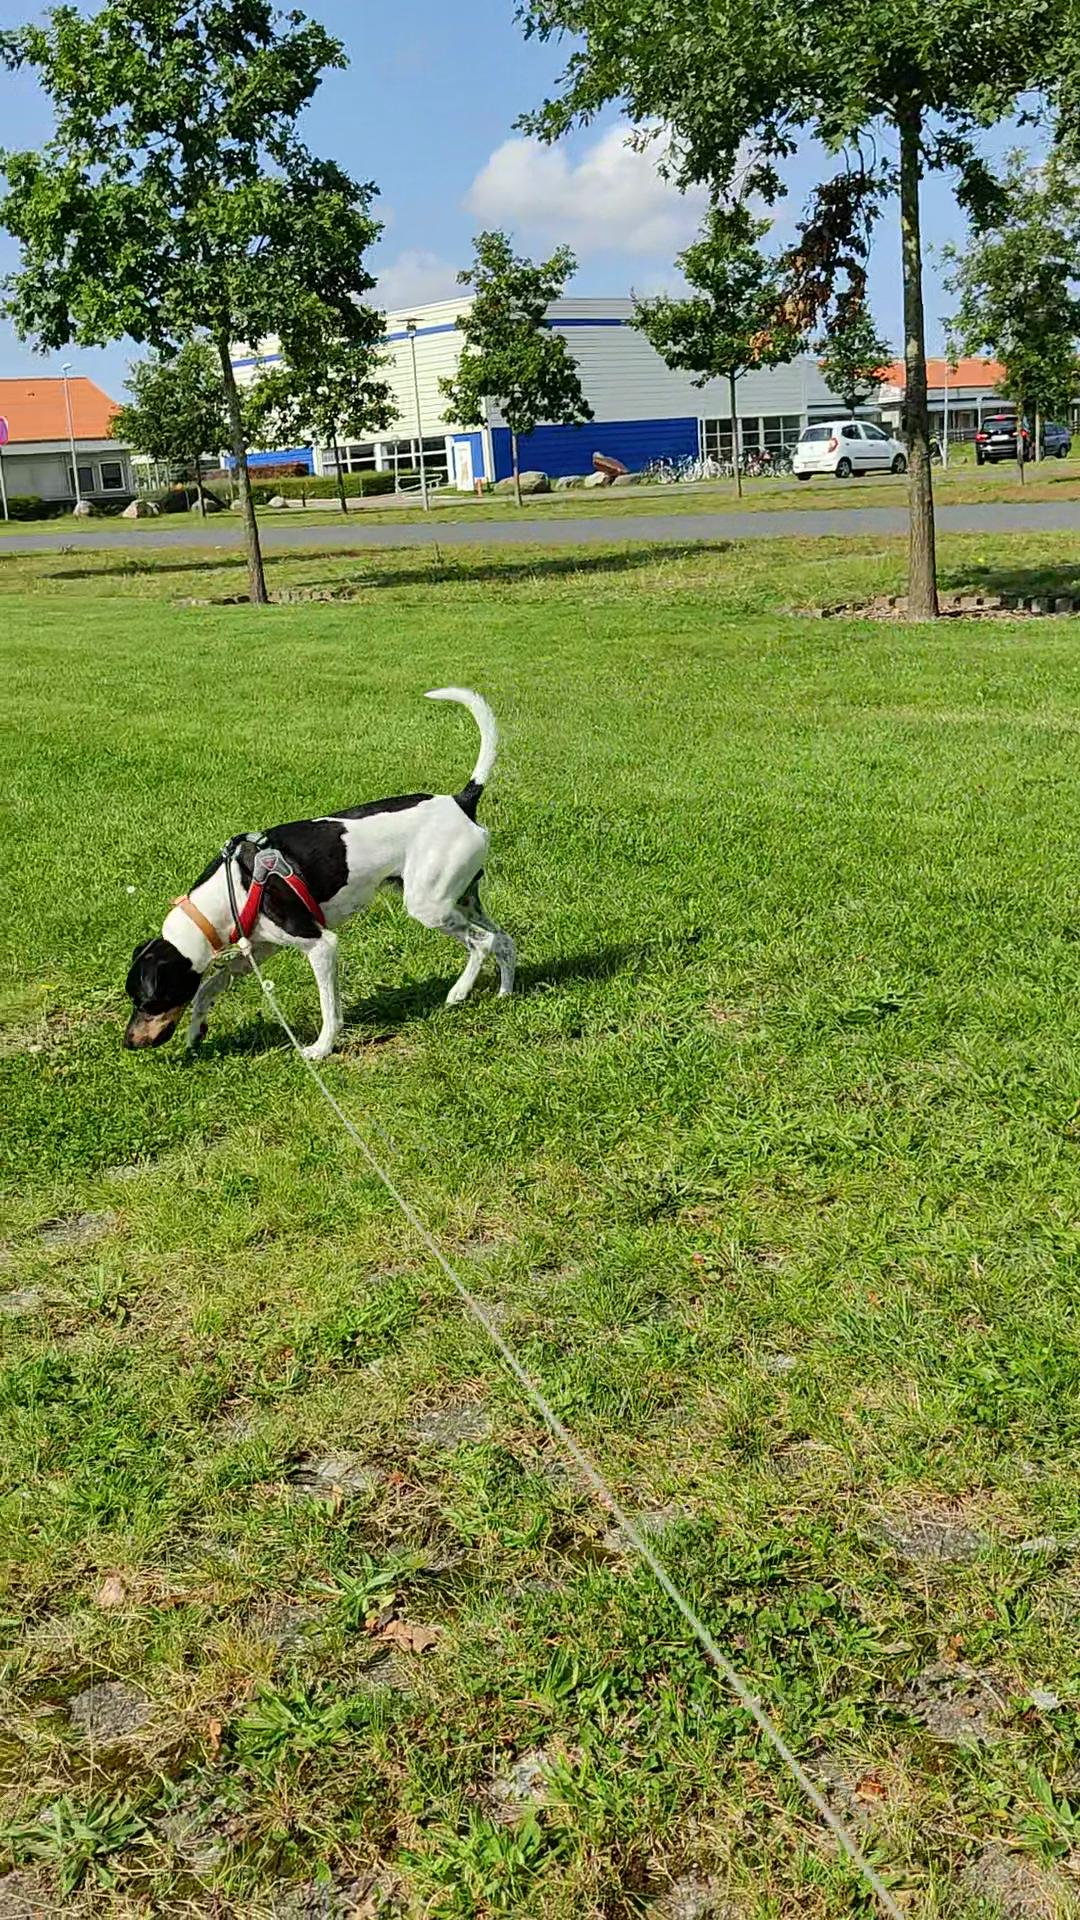Dog: (115, 676, 522, 1059)
